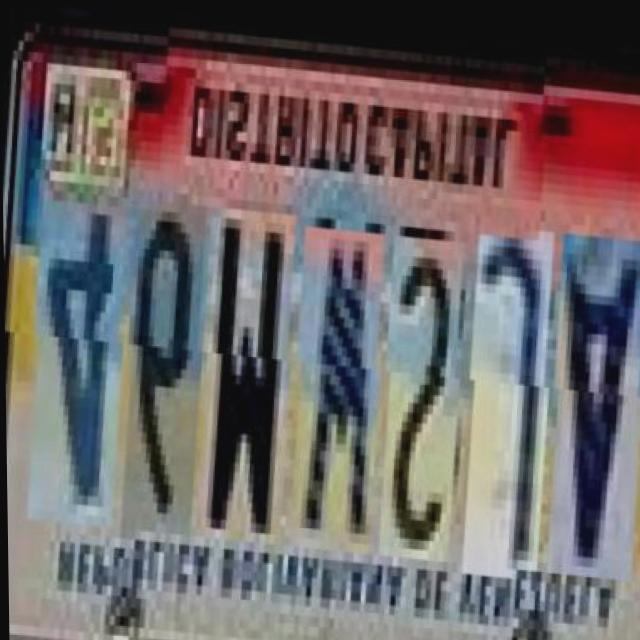4: (20, 189, 127, 516)
6: (113, 197, 207, 532)
a: (537, 231, 640, 577)
j: (453, 224, 553, 569)
m: (187, 203, 296, 539)
s: (370, 227, 463, 552)
w: (282, 219, 384, 546)
